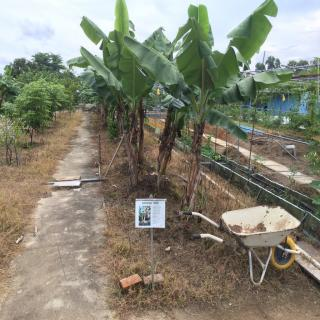Banana: (107, 114, 120, 142), (171, 110, 184, 130), (123, 109, 131, 133), (108, 105, 114, 114)
